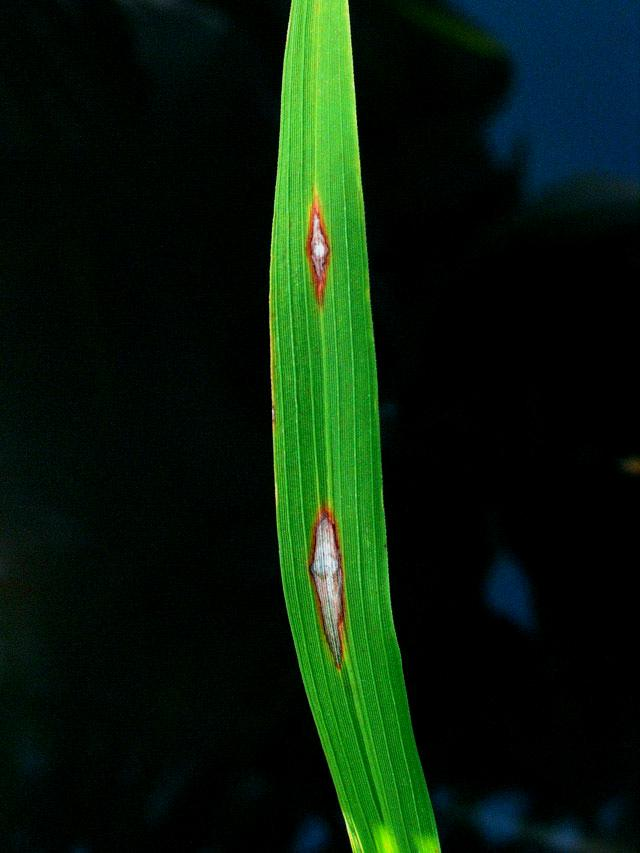1 RiceBlast: (298, 503, 368, 684), (285, 189, 341, 313)
